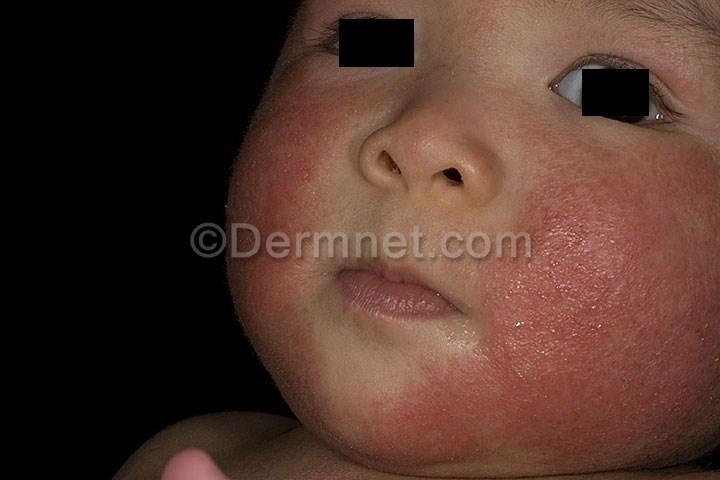eritema 3: (369, 113, 719, 464), (218, 56, 385, 400)
xerosis 1: (622, 365, 719, 429)
